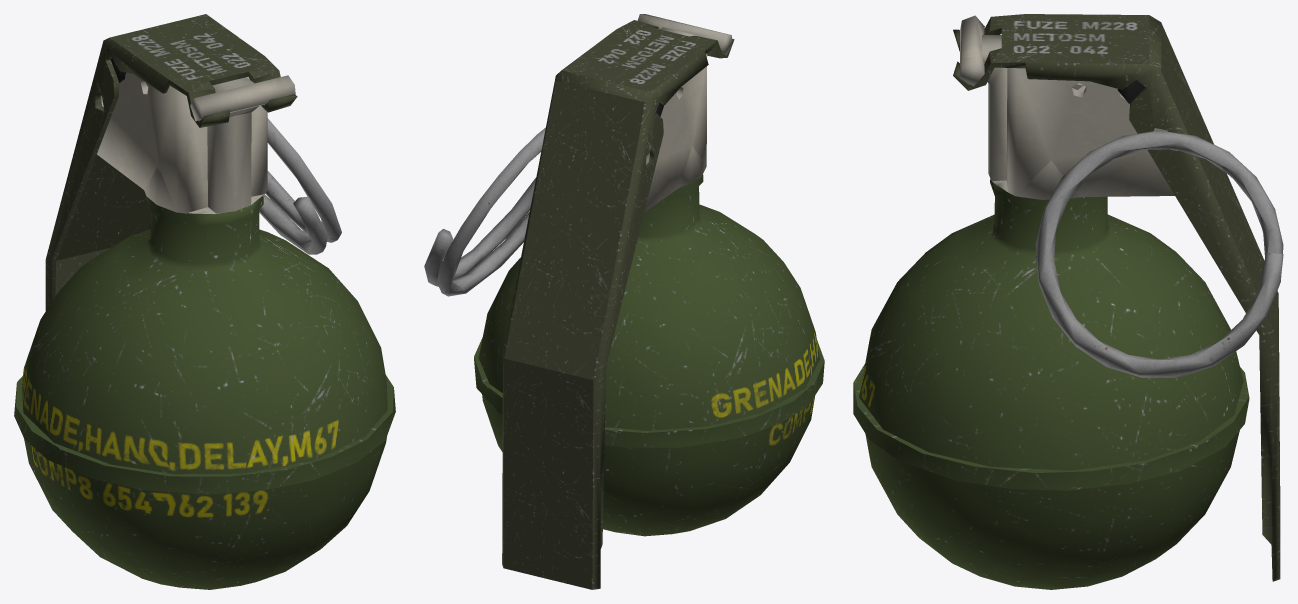
File: frag-grenade.fbx
The picture shows the model from 3 angles, left to right: view 1: azimuth 30°, elevation 25°; view 2: azimuth 150°, elevation 25°; view 3: azimuth 270°, elevation 25°; orthographic projection. The views are drawn at different scales.
Visible parts, largest first — view 1: body_low, safty lever_low, pull ring_low; view 2: body_low, safty lever_low, pull ring_low; view 3: body_low, safty lever_low, pull ring_low.
Boxes of the visible parts, box(x1,y1,x2,y2) form: body_low: box(14, 58, 395, 589); safty lever_low: box(45, 14, 297, 310); pull ring_low: box(259, 118, 341, 254); body_low: box(474, 14, 824, 536); safty lever_low: box(502, 20, 734, 589); pull ring_low: box(424, 127, 545, 296); body_low: box(853, 15, 1249, 589); safty lever_low: box(953, 14, 1280, 581); pull ring_low: box(1035, 130, 1283, 377).
Size of the model in its own units: 5.96 by 8.87 by 6.48.
